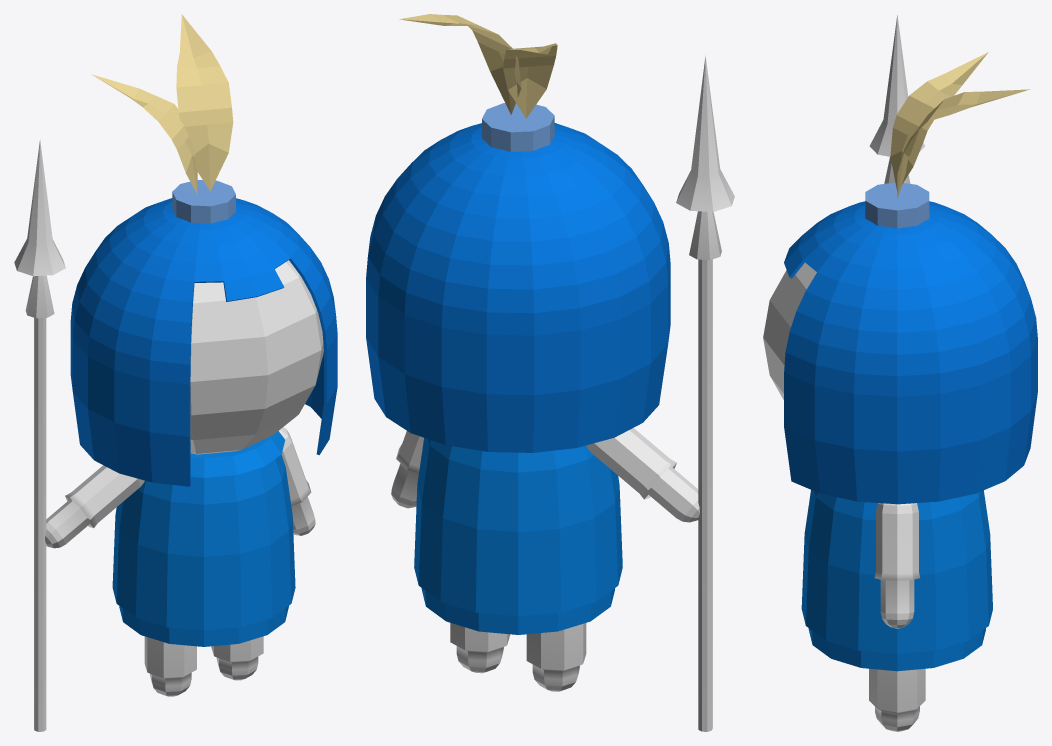
File: M_Soldier_Blue.fbx
3 renders of one model, left to right at view 1: azimuth 30°, elevation 25°; view 2: azimuth 150°, elevation 25°; view 3: azimuth 270°, elevation 25°, orthographic. The views are drawn at different scales.
Visible parts, largest first — view 1: M_Arm_Right4; view 2: M_Arm_Right4; view 3: M_Arm_Right4.
Part boxes in pixels (left/top/right/bottom): M_Arm_Right4: left=14, top=14, right=337, bottom=731; M_Arm_Right4: left=366, top=14, right=734, bottom=731; M_Arm_Right4: left=763, top=15, right=1037, bottom=731.
Size of the model in its own units: 54.61 by 106 by 40.92.
